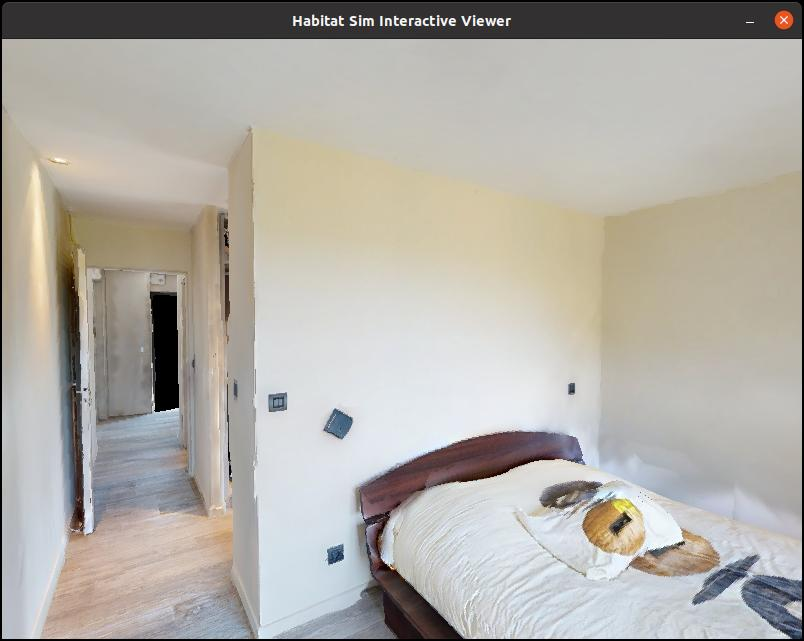bed: (343, 401, 804, 641)
door-frame: (59, 239, 200, 480)
